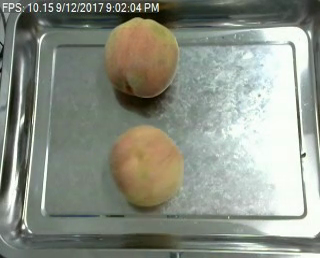Peach: (105, 15, 179, 98), (110, 124, 182, 206)
